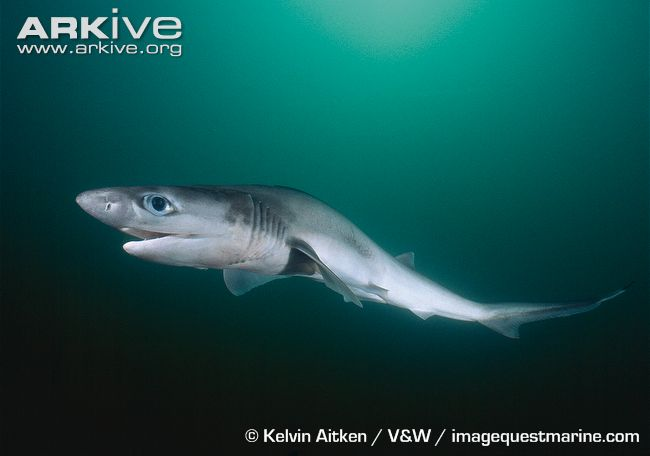shark: (58, 146, 641, 363)
